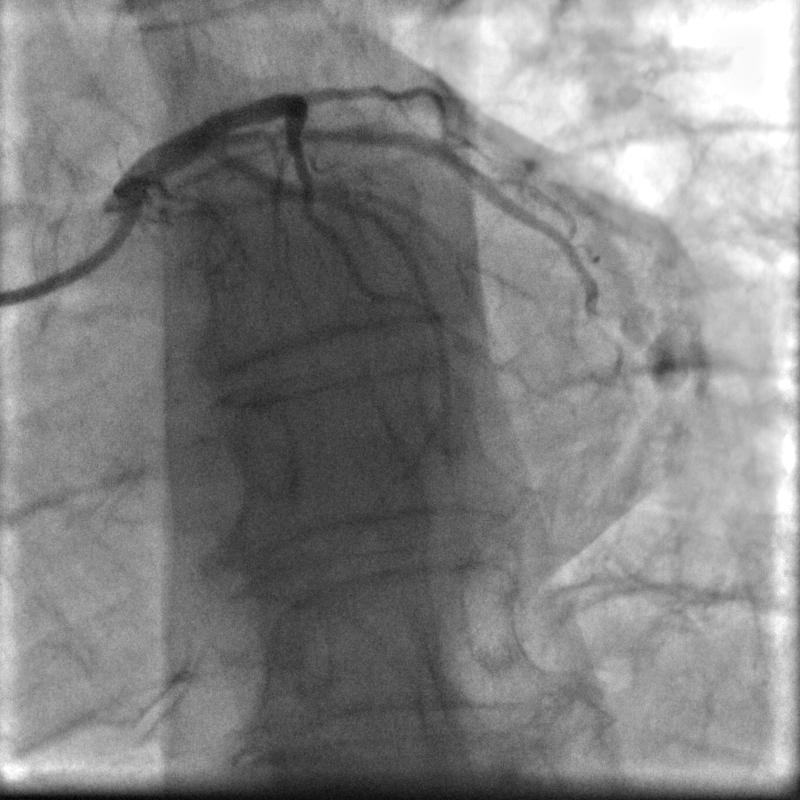Stenosis: (283, 126, 317, 177)
